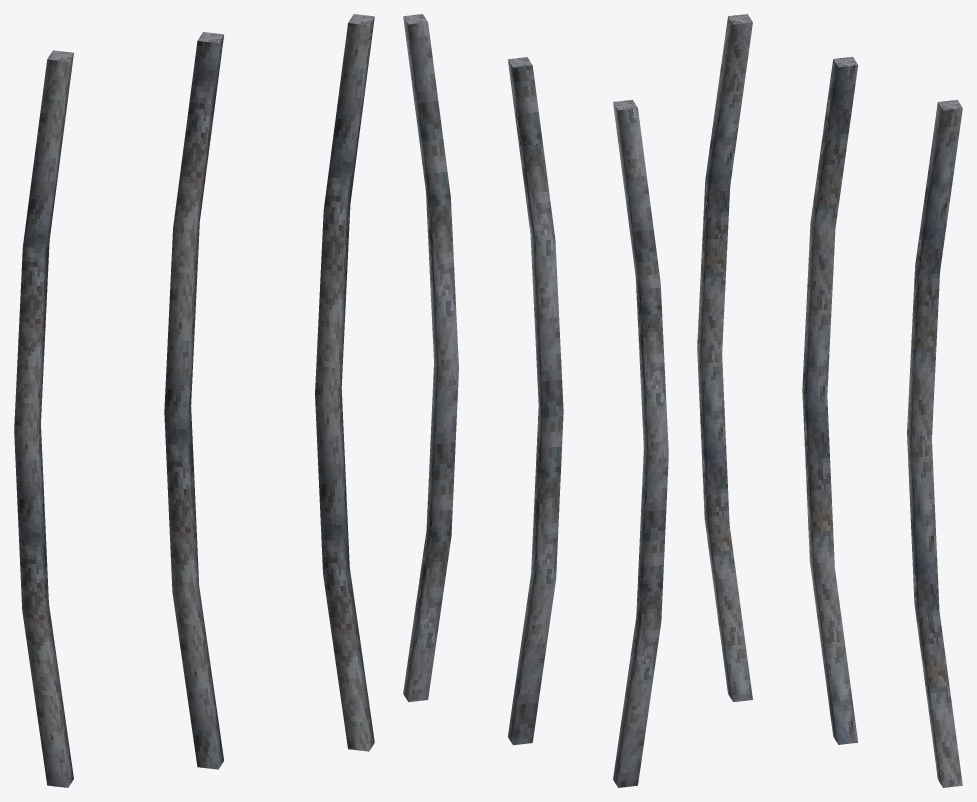
Rendered from EKH_JAIL_ANIM_JA_DUMB_GATE1__AI.fbx.
The picture shows the model from 3 angles, left to right: view 1: azimuth 30°, elevation 25°; view 2: azimuth 150°, elevation 25°; view 3: azimuth 330°, elevation 25°; orthographic projection. The views are drawn at different scales.
Parts seen in each view (by area): view 1: EKH_JAIL_ANIM_JA_DUMB_GATE1__AI; view 2: EKH_JAIL_ANIM_JA_DUMB_GATE1__AI; view 3: EKH_JAIL_ANIM_JA_DUMB_GATE1__AI.
Part boxes in pixels (left/top/right/bottom): EKH_JAIL_ANIM_JA_DUMB_GATE1__AI: left=14, top=14, right=374, bottom=787; EKH_JAIL_ANIM_JA_DUMB_GATE1__AI: left=403, top=14, right=668, bottom=787; EKH_JAIL_ANIM_JA_DUMB_GATE1__AI: left=697, top=14, right=962, bottom=787.
Size of the model in its own units: 7231 by 15551 by 2073.
Materials: 1 (1 with a texture image).
